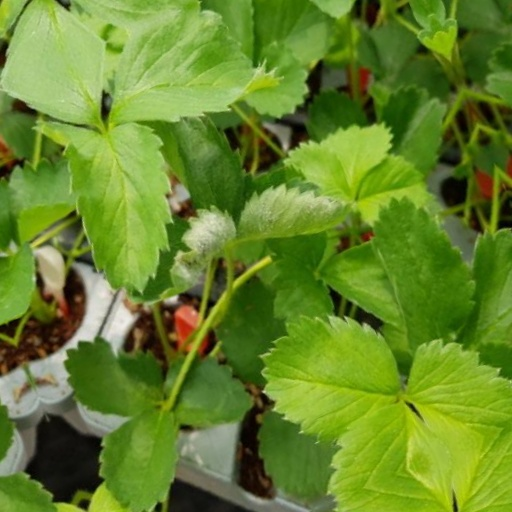Powdery Mildew Leaf: (240, 195, 365, 261), (152, 190, 249, 263)
